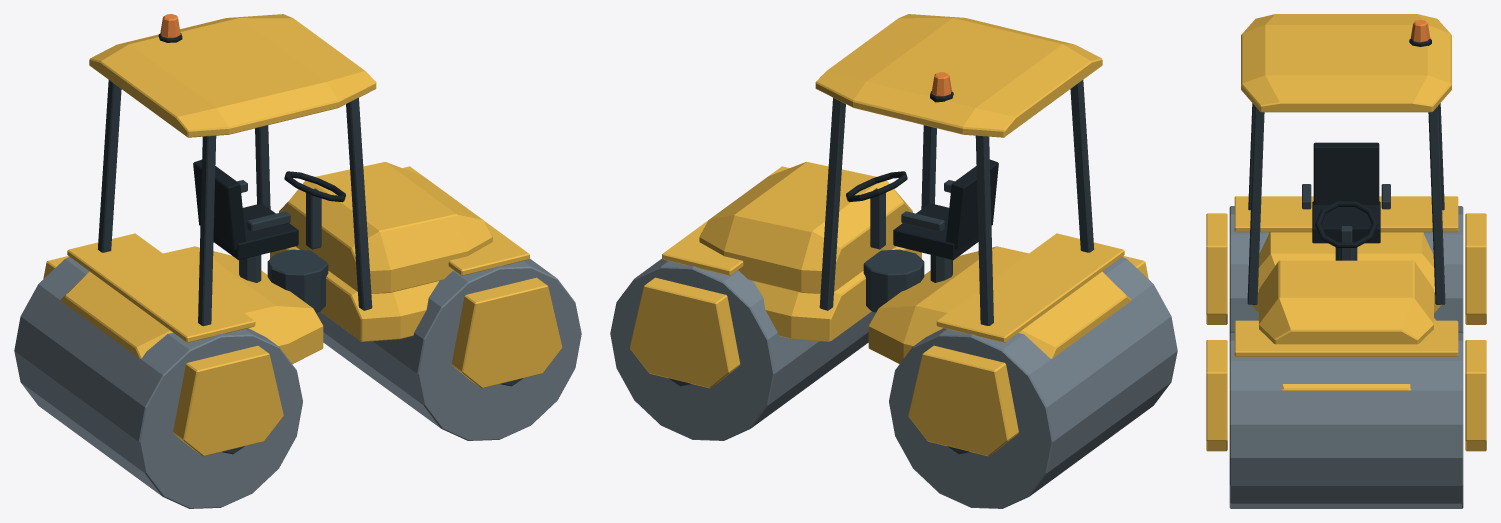
Rendered from b07_tandem_vibratory_road_roller.glb.
3 views of the same model, side by side, from view 1: azimuth 30°, elevation 25°; view 2: azimuth 150°, elevation 25°; view 3: azimuth 270°, elevation 25° (orthographic). The views are drawn at different scales.
Visible parts, largest first — view 1: b07_tandem_vibratory_road_roller; view 2: b07_tandem_vibratory_road_roller; view 3: b07_tandem_vibratory_road_roller.
Part boxes in pixels (<box>): b07_tandem_vibratory_road_roller: <box>14,14,581,508</box>; b07_tandem_vibratory_road_roller: <box>610,14,1177,508</box>; b07_tandem_vibratory_road_roller: <box>1206,14,1486,508</box>.
Size of the model in its own units: 3.34 by 2.91 by 1.97.
